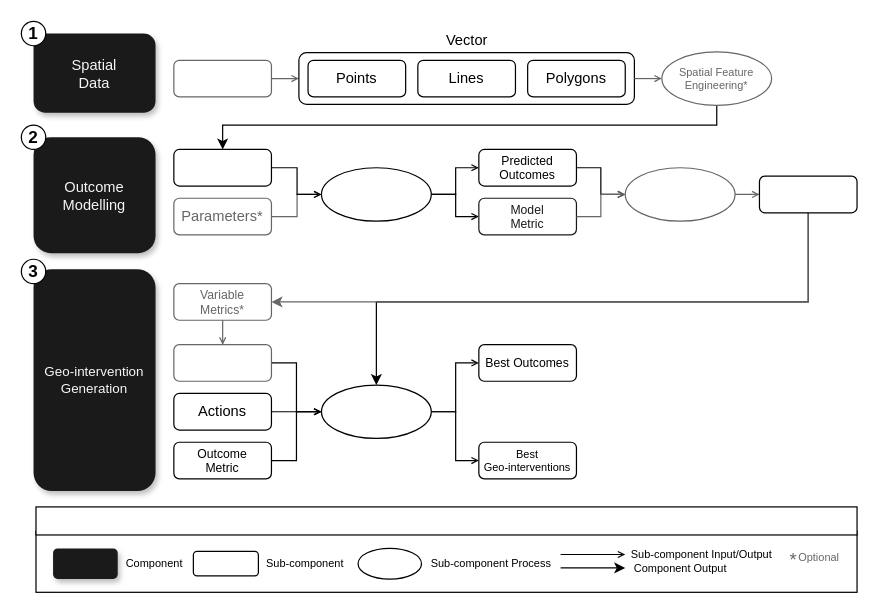
This 878x614 diagram has some shape labels left out. The shapes that lost their labels are listed below. From the top down, each one's centre as x and y in pixels, then its label:
At (x=222, y=78): "Raster*".
At (x=222, y=167): "Variables".
At (x=375, y=194): "Models".
At (x=679, y=194): "Model Selection*".
At (x=807, y=194): "Best Model".
At (x=222, y=362): "Constraints*".
At (x=375, y=411): "Optimization Algorithm".
At (x=446, y=520): "Legend".
